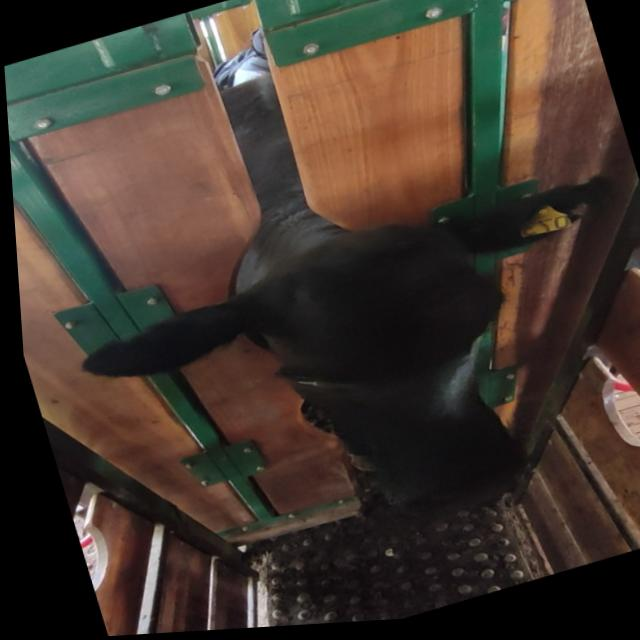cowFace: (241, 202, 558, 552)
